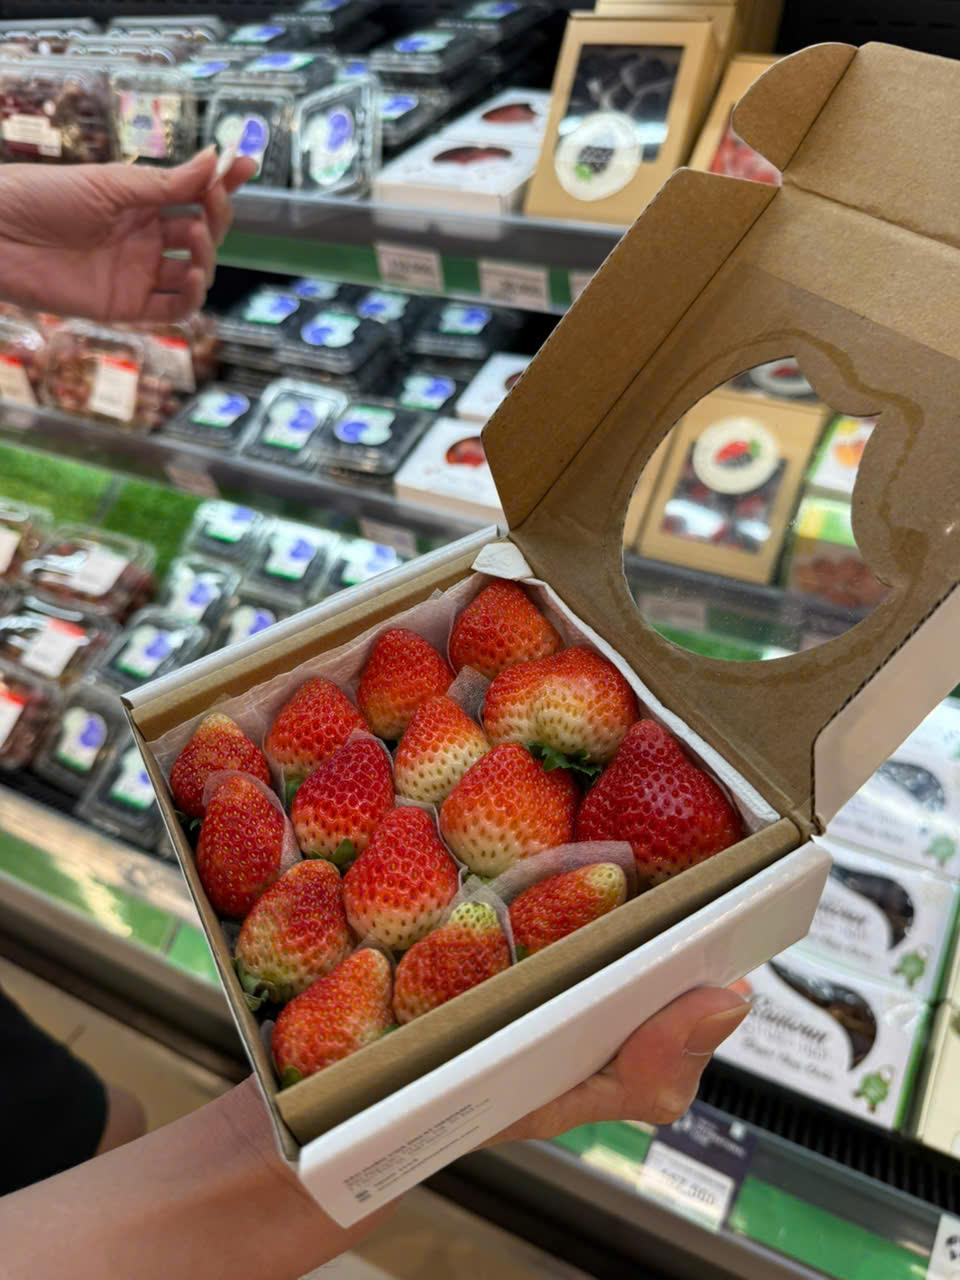strawberry: (570, 718, 745, 868), (478, 636, 637, 764), (222, 851, 357, 1000), (438, 736, 581, 868), (337, 800, 461, 948), (262, 951, 389, 1072), (190, 770, 299, 908), (395, 895, 507, 1020), (450, 558, 565, 666), (387, 686, 489, 800), (282, 726, 393, 830), (505, 868, 635, 954), (275, 663, 375, 758), (165, 698, 269, 788), (355, 623, 449, 712)
